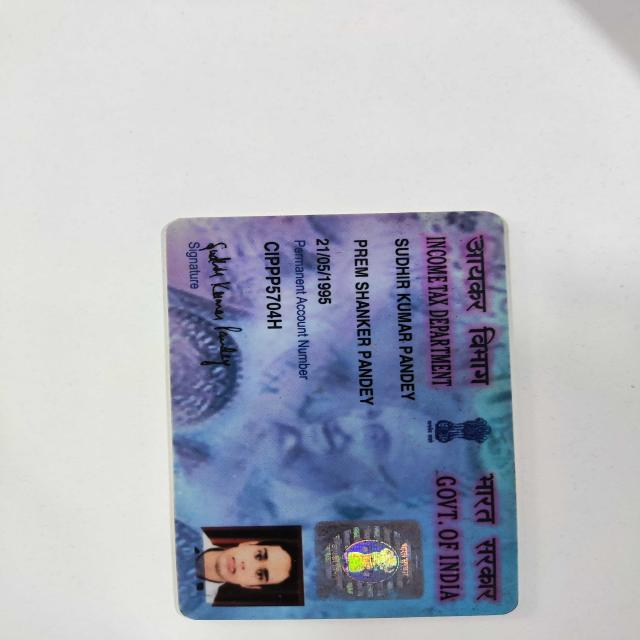pan_card: (169, 214, 515, 618)
